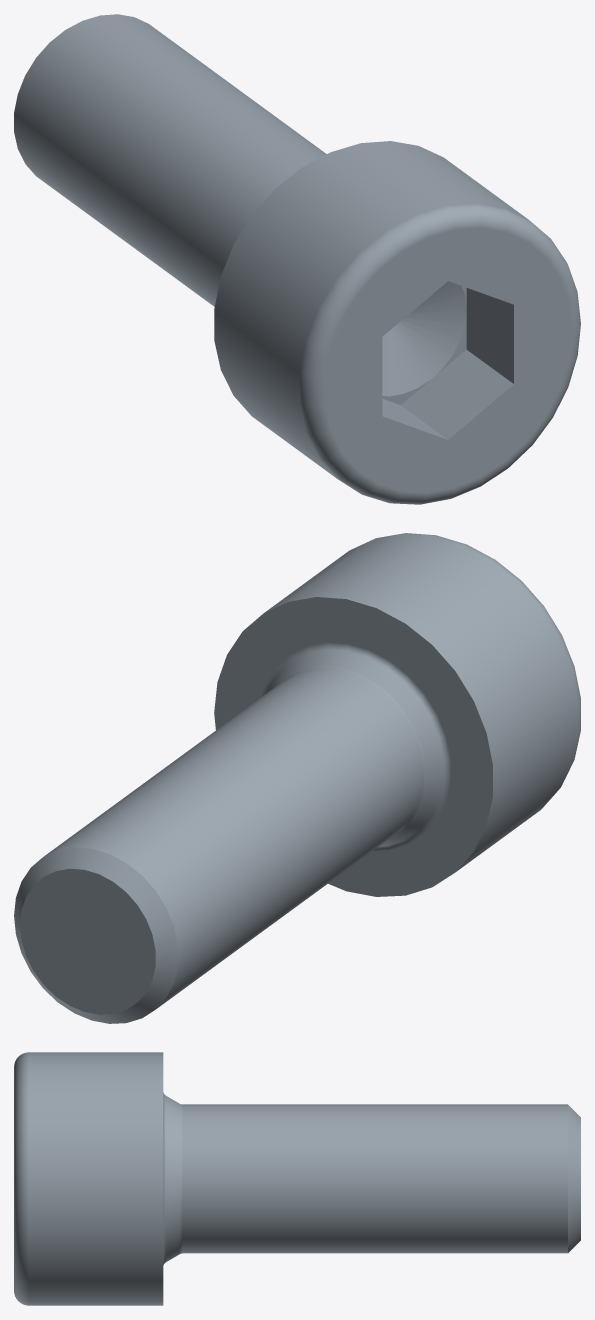
Rendered from Hex_socket_head_cap_screw_M5x0_80_x_14.obj.
The picture shows the model from 3 angles, top to bottom: view 1: azimuth 30°, elevation 25°; view 2: azimuth 150°, elevation 25°; view 3: azimuth 270°, elevation 25°; orthographic projection. The views are drawn at different scales.
Parts seen in each view (by area): view 1: mesh1548, mesh1553, mesh1555, mesh1554, mesh1563, mesh1561, mesh1556, mesh1560; view 2: mesh1548, mesh1553, mesh1552, mesh1546, mesh1547, mesh1550, mesh1551, mesh1554, mesh1549; view 3: mesh1548, mesh1553, mesh1554, mesh1550, mesh1547, mesh1551, mesh1549.
Boxes of the visible parts, bbox=[...] form: mesh1548: bbox=[14, 14, 326, 306]; mesh1553: bbox=[214, 141, 528, 478]; mesh1555: bbox=[325, 228, 571, 492]; mesh1554: bbox=[299, 203, 580, 504]; mesh1563: bbox=[382, 281, 466, 396]; mesh1561: bbox=[401, 349, 513, 439]; mesh1556: bbox=[466, 288, 513, 383]; mesh1560: bbox=[382, 398, 447, 439]; mesh1548: bbox=[44, 668, 423, 1008]; mesh1553: bbox=[264, 534, 578, 871]; mesh1552: bbox=[214, 597, 492, 896]; mesh1546: bbox=[20, 868, 155, 1014]; mesh1547: bbox=[14, 847, 177, 1023]; mesh1550: bbox=[267, 650, 443, 846]; mesh1551: bbox=[260, 642, 450, 851]; mesh1554: bbox=[351, 533, 580, 807]; mesh1549: bbox=[281, 665, 426, 837]; mesh1548: bbox=[182, 1104, 567, 1253]; mesh1553: bbox=[29, 1052, 163, 1305]; mesh1554: bbox=[14, 1052, 28, 1305]; mesh1550: bbox=[166, 1096, 179, 1261]; mesh1547: bbox=[568, 1105, 580, 1252]; mesh1551: bbox=[163, 1092, 166, 1265]; mesh1549: bbox=[179, 1104, 182, 1253].
Size of the model in its own units: 0.00848 by 0.00849 by 0.019.
